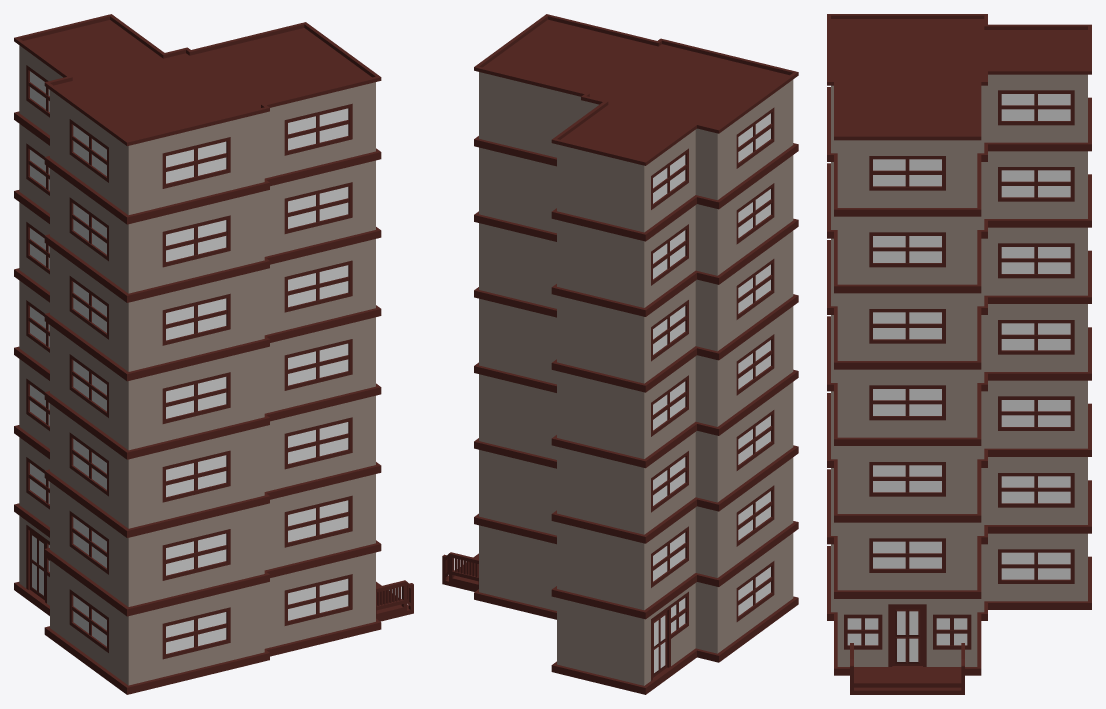
Rendered from business building 17.fbx.
3 renders of one model, left to right at view 1: azimuth 30°, elevation 25°; view 2: azimuth 150°, elevation 25°; view 3: azimuth 270°, elevation 25°, orthographic. The views are drawn at different scales.
Visible parts, largest first — view 1: building_001; view 2: building_001; view 3: building_001.
Boxes of the visible parts, <box> form: building_001: <box>14,14,413,694</box>; building_001: <box>442,14,798,694</box>; building_001: <box>827,14,1091,694</box>.
Bounding box in the file's own units: 877 × 1550 × 691.
